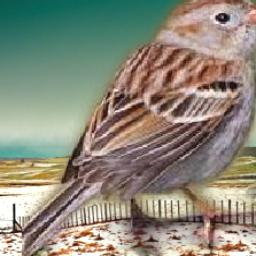Sparrow: (22, 0, 256, 256)
